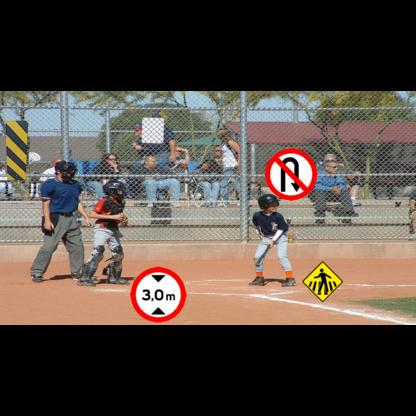A-32b: (302, 261, 343, 302)
O-MP: (5, 121, 28, 180)
R-15: (130, 267, 186, 322)
